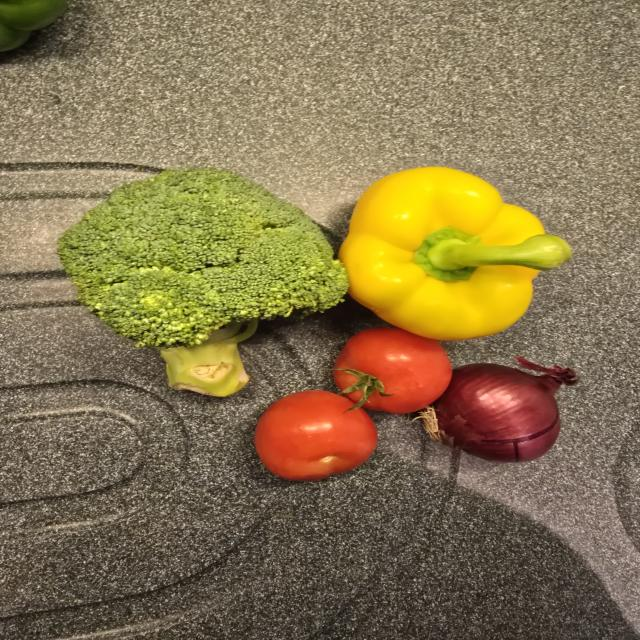Bell Pepper: (340, 167, 572, 340)
Broccoli: (58, 169, 349, 397)
Onion: (432, 358, 579, 462)
Tomato: (254, 390, 377, 481), (333, 328, 452, 414)
